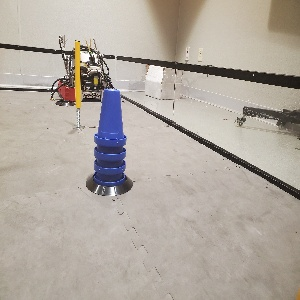Blue_4: (92, 86, 127, 186)
